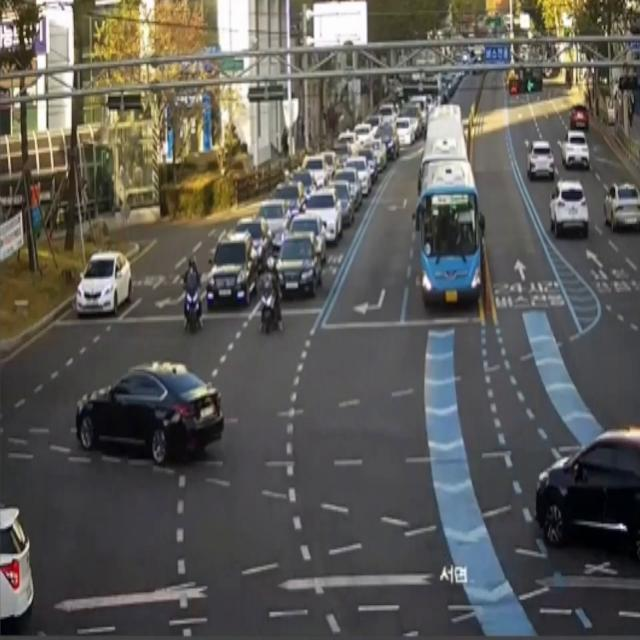motorcycle: (536, 424, 640, 563), (415, 160, 488, 310)
